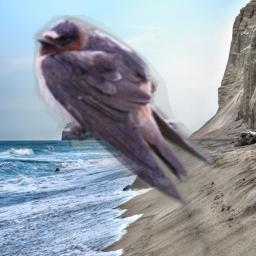Swallow: (31, 15, 215, 208)
